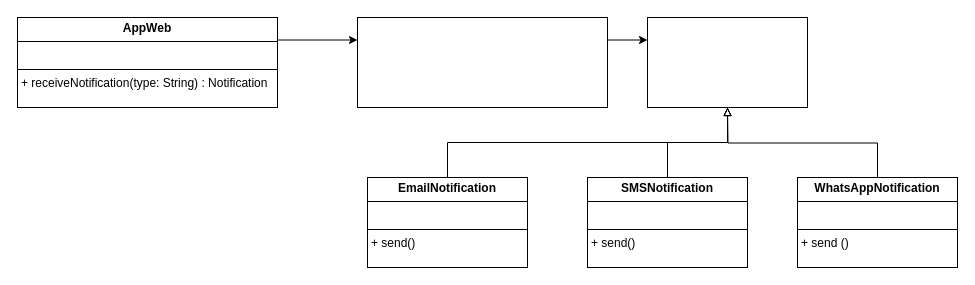
This 975x285 diagram has some shape labels left out. The shapes that lost their labels are listed below. From the top down, each one's box as (x1, y1, x2, y2) in pixels, then its label:
(356, 16, 608, 108): NotificationFactory + createNotification(type:String) : Notification
(646, 16, 808, 108): Notification + send()
